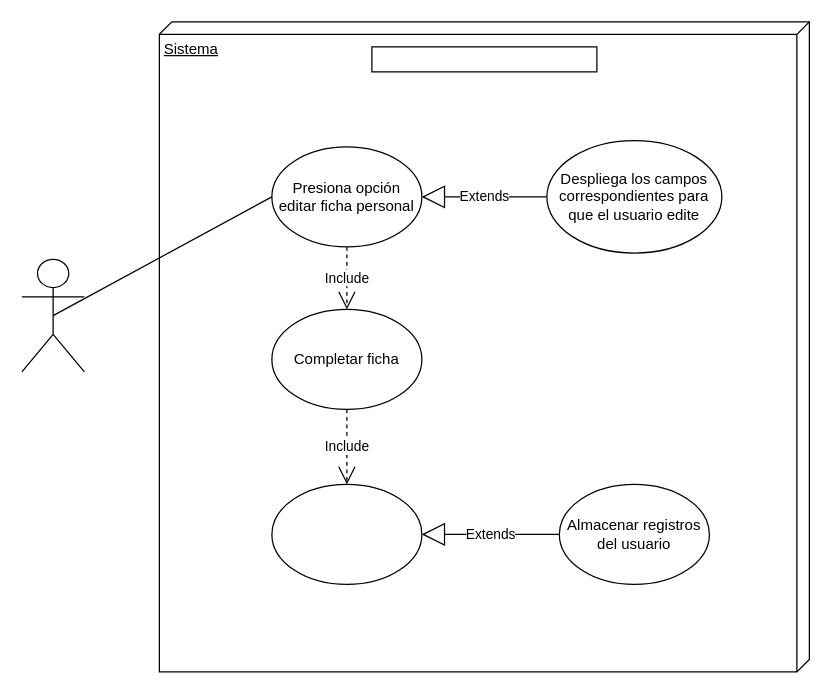
The diagram is 831 pixels wide and 694 high, and some of its shapes have lost their labels. Here are the shapes that lost their labels. From the top down, the box of each, then its label:
(371, 46, 597, 72): Editar ficha personal
(21, 258, 84, 372): Paciente
(271, 483, 422, 584): Guardar ficha
